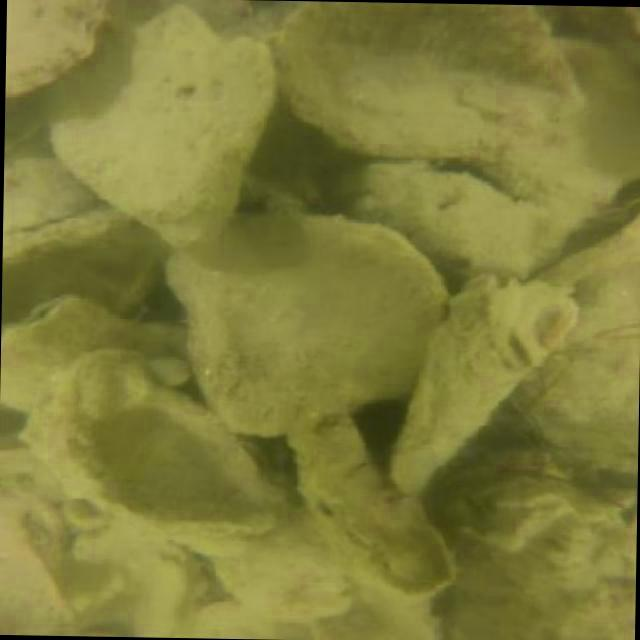Oyster-Closed: (154, 212, 449, 434), (276, 1, 594, 199), (38, 10, 272, 249), (52, 338, 277, 542), (381, 275, 577, 496), (505, 212, 639, 471), (289, 409, 461, 601), (0, 290, 176, 403), (5, 0, 110, 94)
